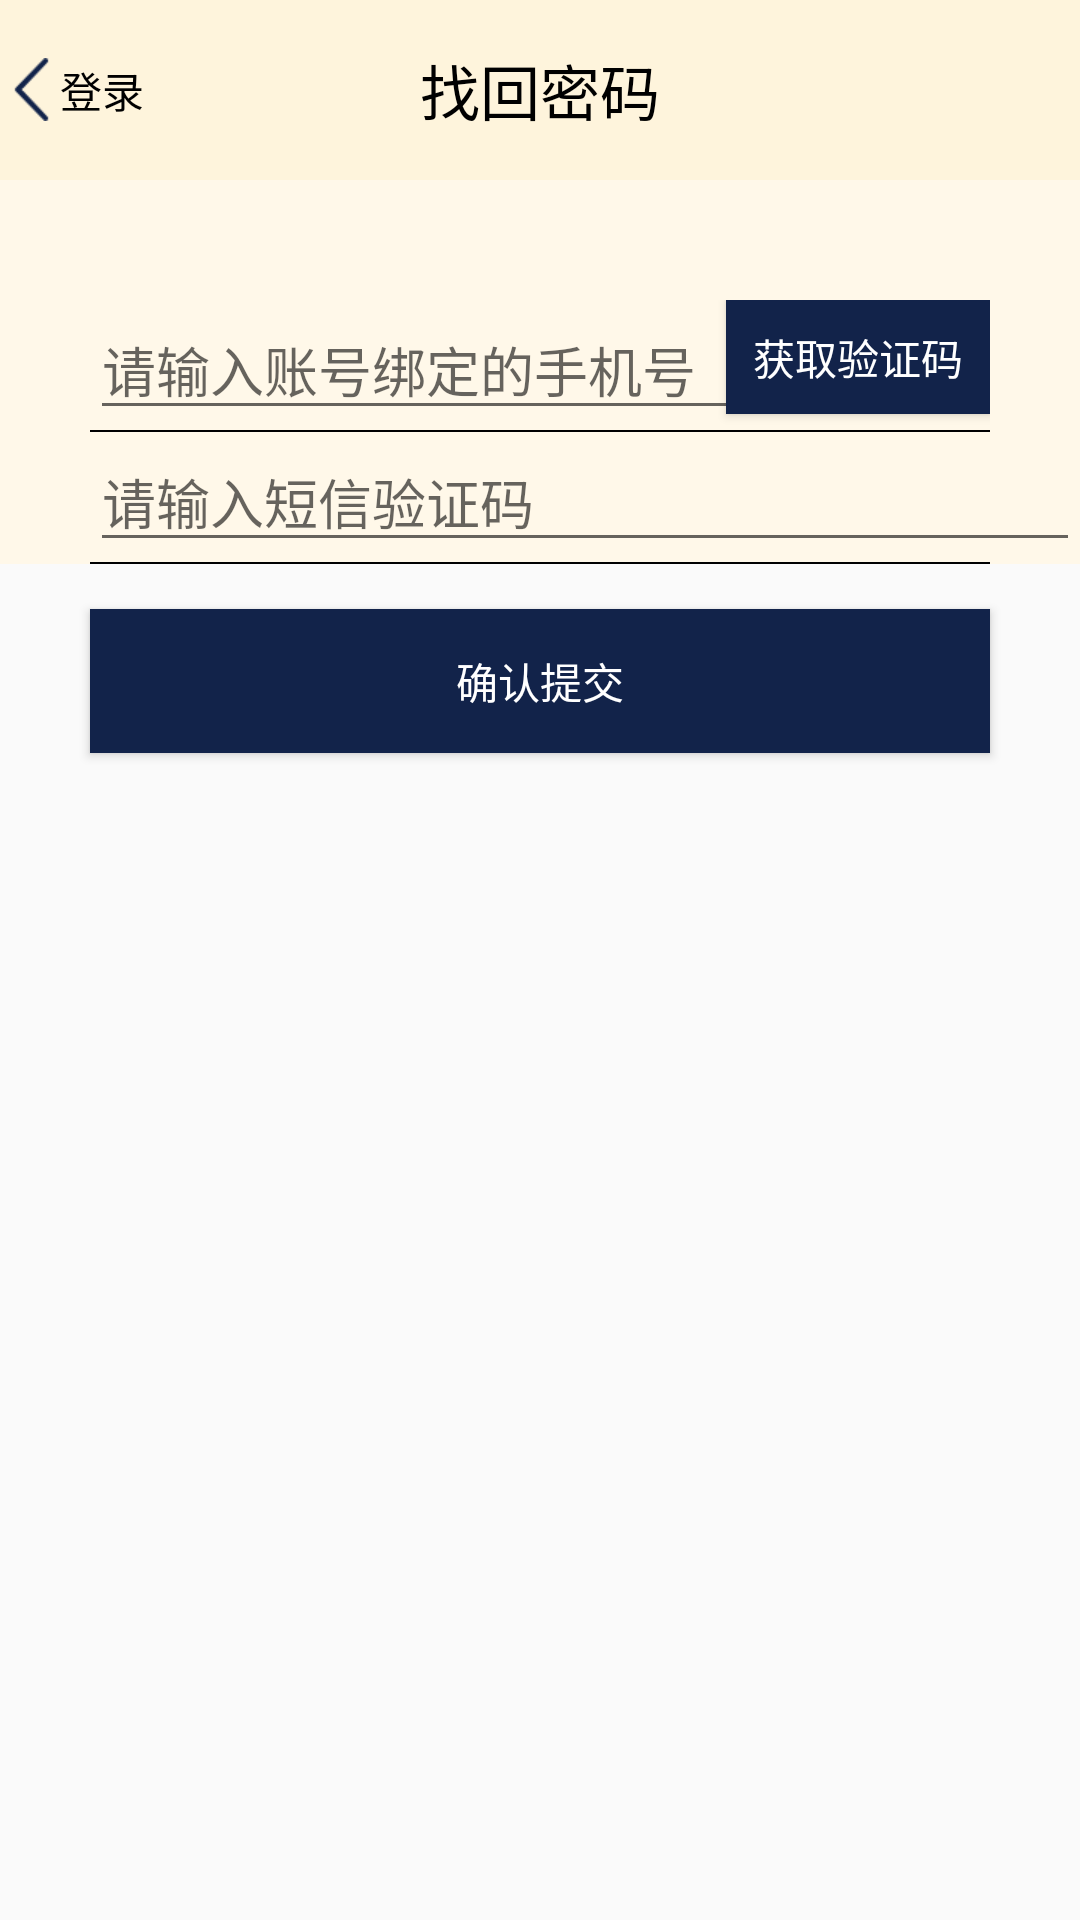

Named icons in this screenshot (1080w x 1920h) and their centers, (x,y):
back: (31,89)
